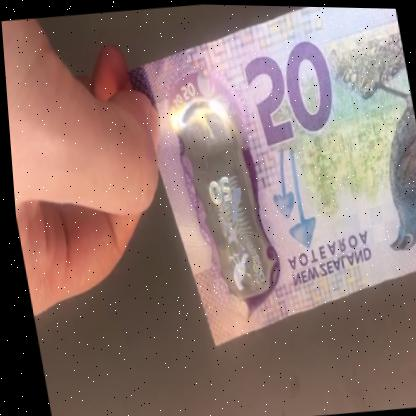50B: (178, 106, 263, 296)
